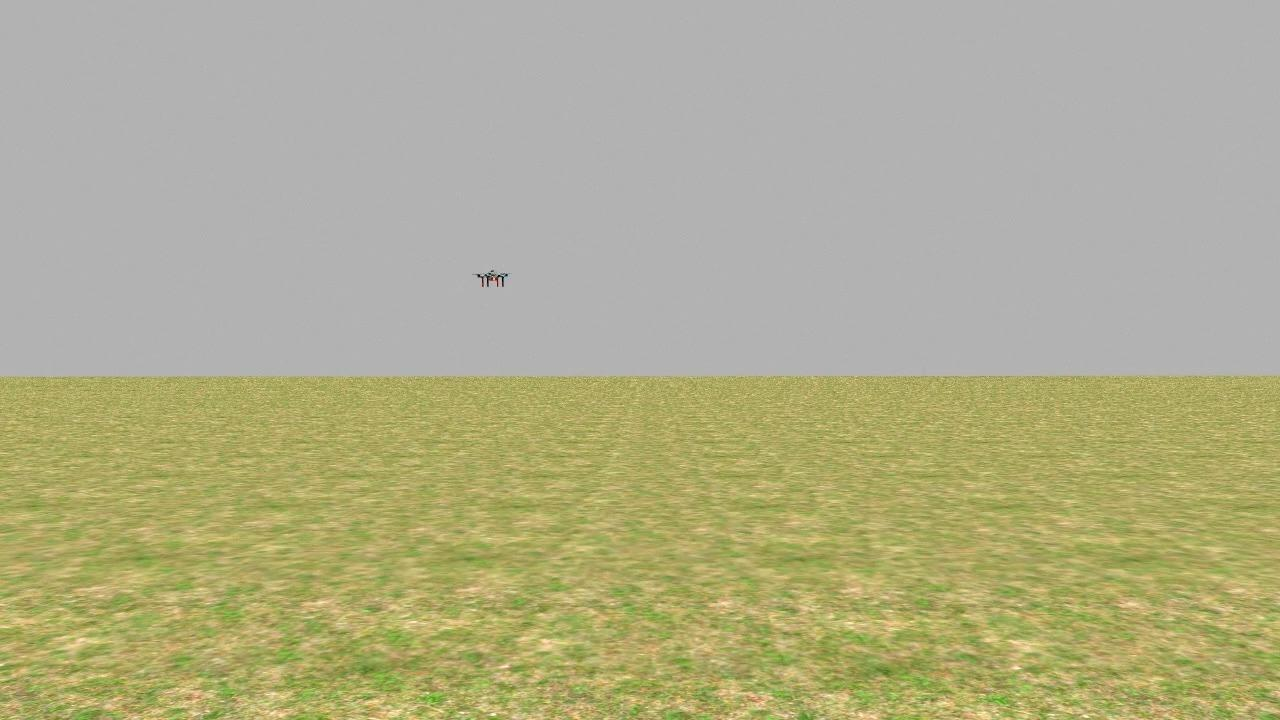UAV: (472, 260, 516, 298)
